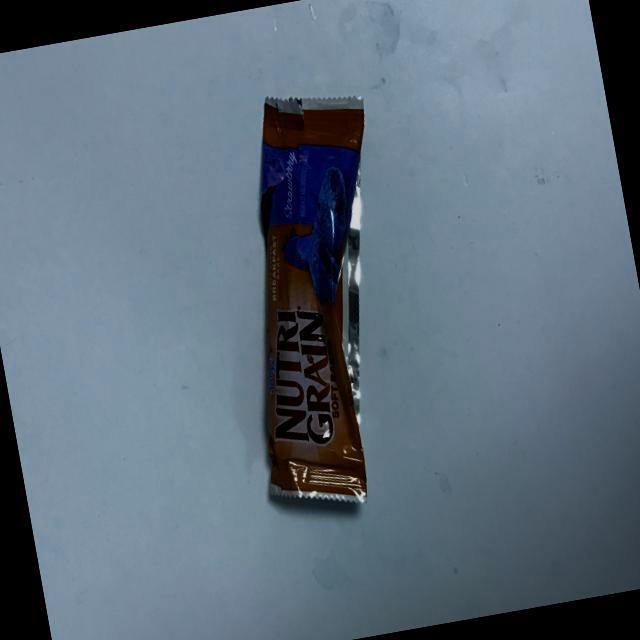plastic: (184, 51, 482, 540)
